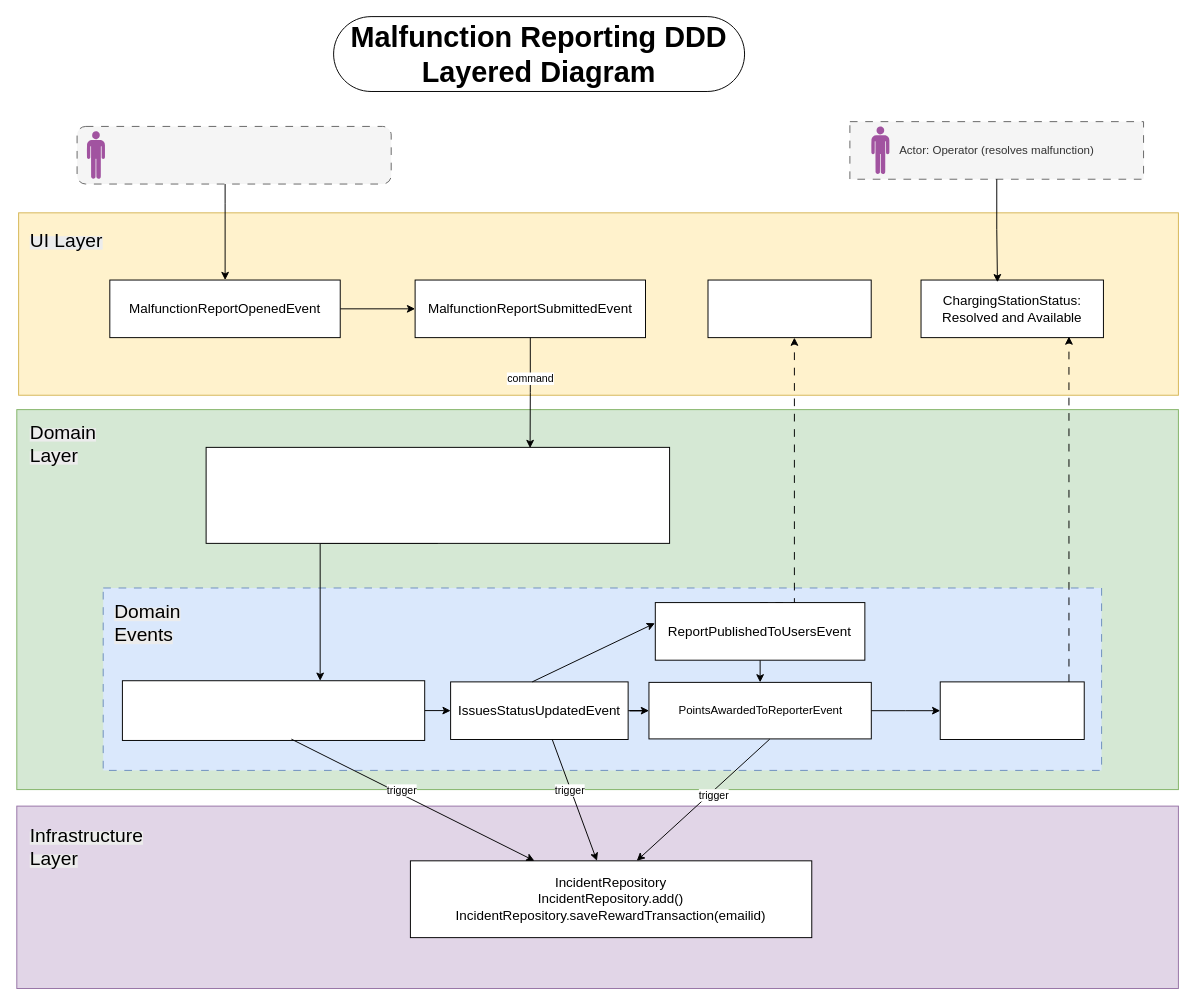
This 1195x1006 diagram has some shape labels left out. The box of each missing label's shape, as (x1, y1, x2, y2) in pixels:
Actor: Authorized User (Resident / Operator): (76, 125, 391, 184)
ChargingStationStatus: Update: (707, 279, 871, 338)
MalfunctionReportValidatedAndSubmittedEvent: (121, 680, 425, 740)
MalfunctionService - vaalidatedAndOpenReport(): (205, 446, 670, 543)
SolutionProvidedEvent: (939, 681, 1084, 739)
